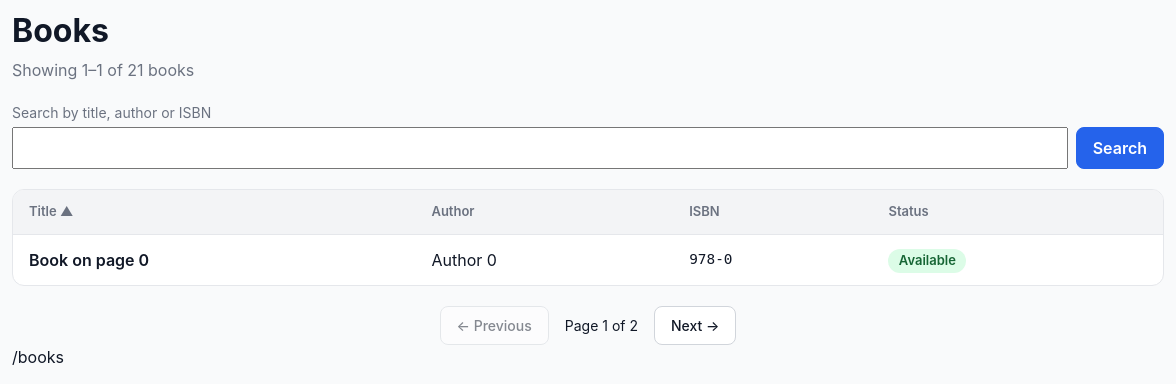
BooksPage › moves to the next page and keeps it in the URL
What coordinates should you click on to do the following:
click the button "Next →"
I would click on:
 (695, 325)
Its box is [654,306,736,345].
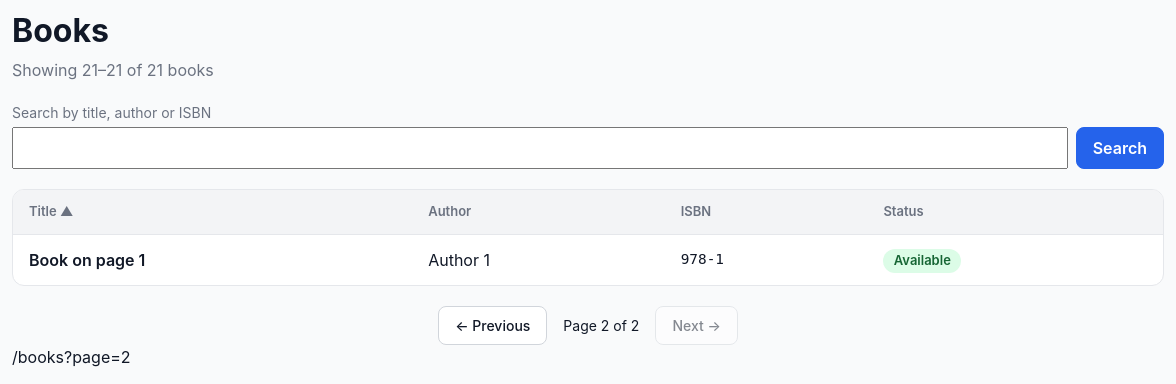
Now the text "Book on page 1" is shown, box [13,235,412,285]
Now the text with test id "url" reads "/books?page=2", box [12,347,131,367]
Now the text "Page 2 of 2" is shown, box [563,315,639,336]
